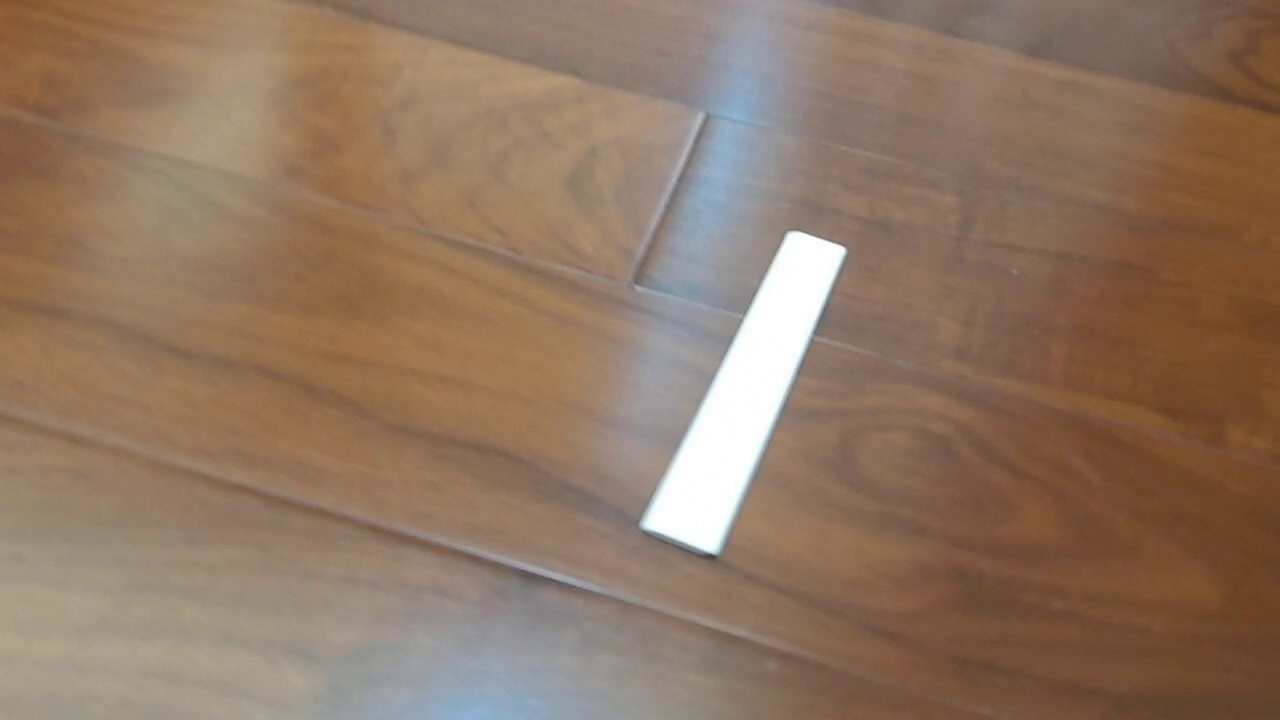ruler: (636, 229, 849, 561)
